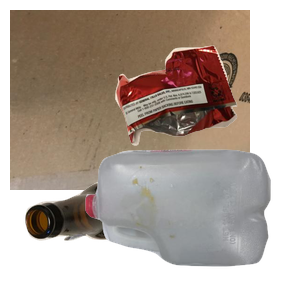cardboard: (10, 10, 250, 190)
glass: (23, 179, 183, 300)
plastic: (83, 147, 300, 300)
trash: (113, 43, 300, 181)
